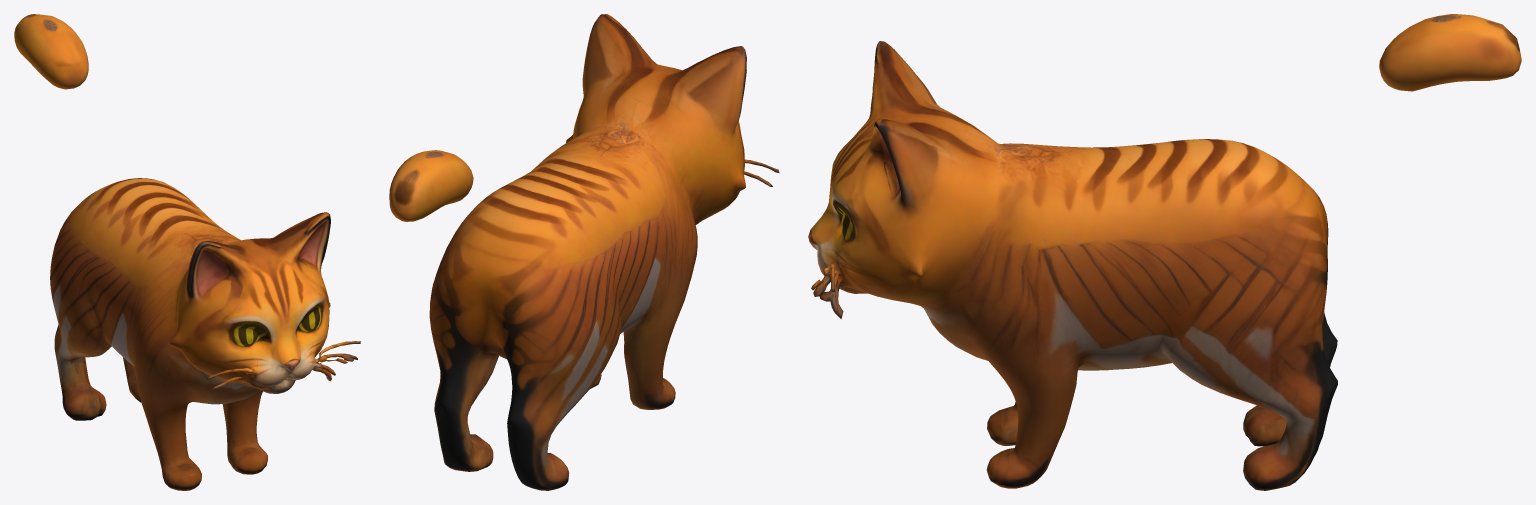
3 renders of one model, left to right at view 1: azimuth 30°, elevation 25°; view 2: azimuth 150°, elevation 25°; view 3: azimuth 270°, elevation 25°, orthographic. The views are drawn at different scales.
Bounding box in the file's own units: 0.6877 × 1.38 × 2.01.
Materials: 1 (1 with a texture image).
